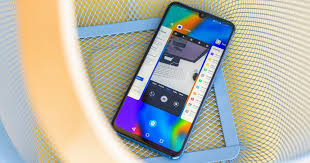huawei: (109, 1, 240, 155)
